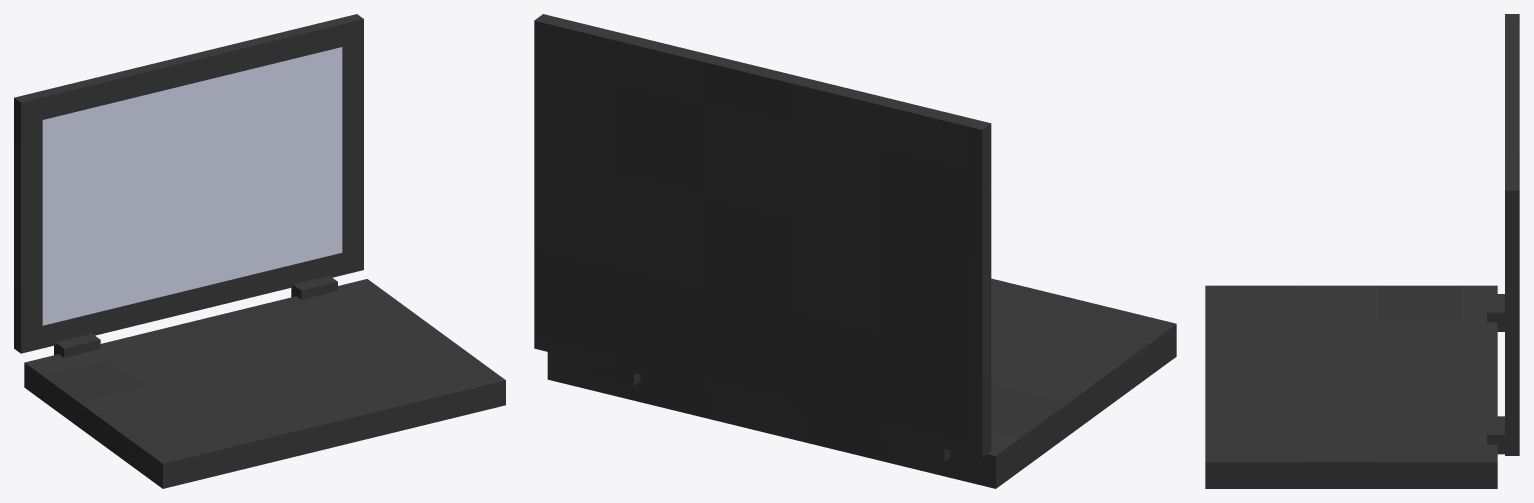
The model's file is NOTEBOOK 1.fbx.
3 views of the same model, side by side, from view 1: azimuth 30°, elevation 25°; view 2: azimuth 150°, elevation 25°; view 3: azimuth 270°, elevation 25° (orthographic). The views are drawn at different scales.
Visible parts, largest first — view 1: NOTEBOOK; view 2: NOTEBOOK; view 3: NOTEBOOK.
Boxes of the visible parts, x1,y1,x2,y2 form: NOTEBOOK: (14,14,505,488); NOTEBOOK: (534,14,1176,488); NOTEBOOK: (1205,14,1519,488).
Bounding box in the file's own units: 36.05 × 28.36 × 27.1.
